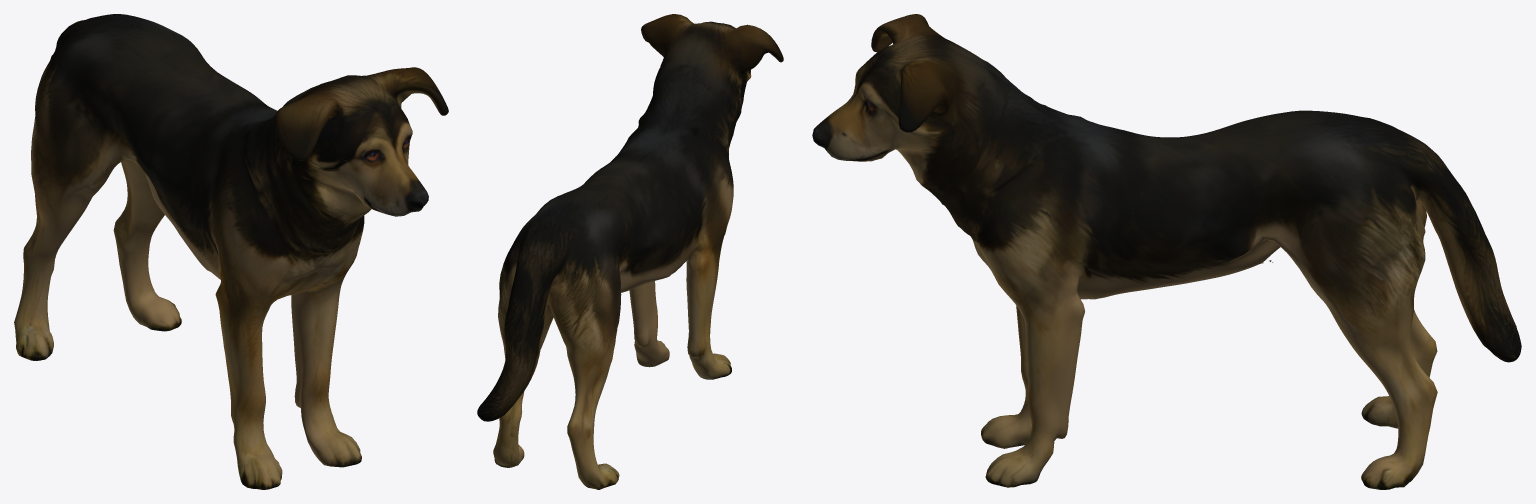
File: Дворняга.gltf
3 renders of one model, left to right at view 1: azimuth 30°, elevation 25°; view 2: azimuth 150°, elevation 25°; view 3: azimuth 270°, elevation 25°, orthographic. The views are drawn at different scales.
Visible parts, largest first — view 1: tripo_node_5d23eb9d; view 2: tripo_node_5d23eb9d; view 3: tripo_node_5d23eb9d.
Part boxes in pixels (box(x1,y1,x2,y2)): tripo_node_5d23eb9d: box(14, 14, 448, 489); tripo_node_5d23eb9d: box(477, 14, 783, 489); tripo_node_5d23eb9d: box(812, 14, 1521, 489).
Bounding box in the file's own units: 32.7 × 67.13 × 102.
1 material, 1 textured.
